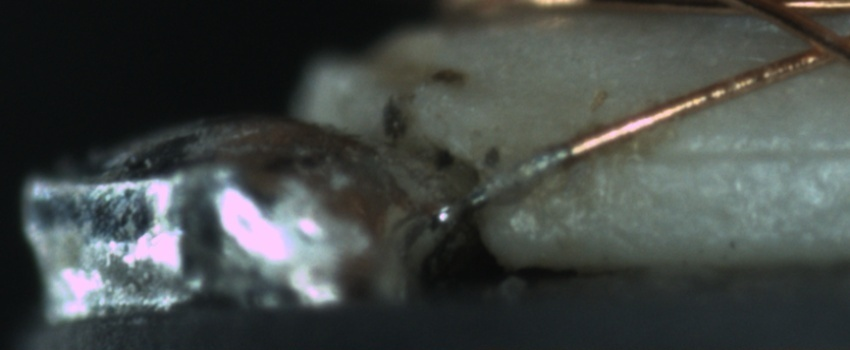CL: (774, 14, 848, 74)
DL: (623, 120, 848, 189)
TS: (428, 147, 579, 223)
TTCW: (430, 128, 620, 231)
